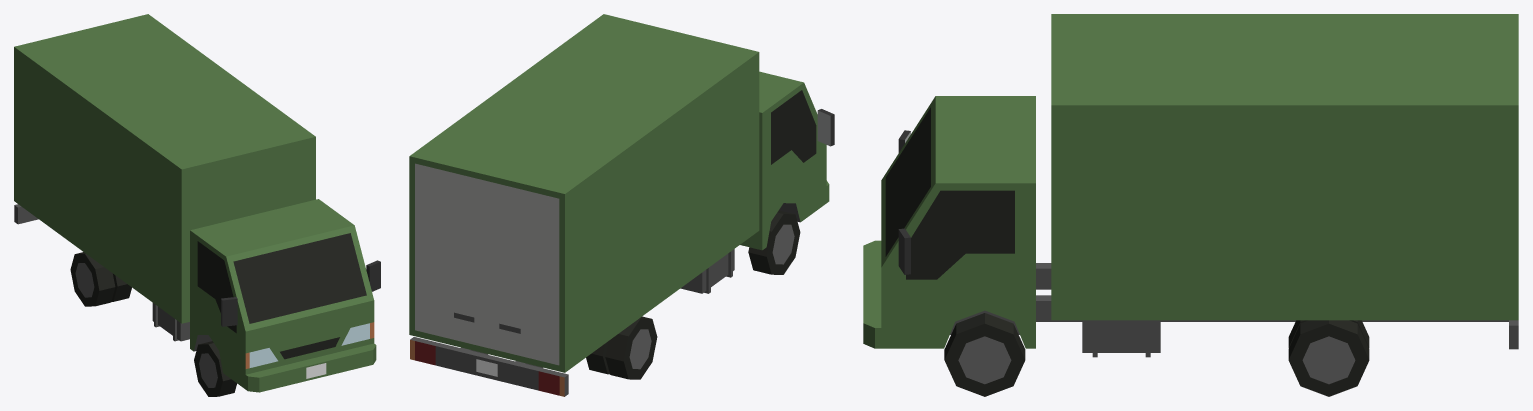
Rendered from Veh_Truck_02_Green.glb.
The picture shows the model from 3 angles, left to right: view 1: azimuth 30°, elevation 25°; view 2: azimuth 150°, elevation 25°; view 3: azimuth 270°, elevation 25°; orthographic projection. The views are drawn at different scales.
Visible parts, largest first — view 1: Truck_02_Green, Wheel_RR, Wheel_FR; view 2: Truck_02_Green, Wheel_RR, Wheel_FR; view 3: Truck_02_Green, Wheel_RL, Wheel_FL.
Part boxes in pixels (x1,y1,x2,y2): Truck_02_Green: [14, 14, 380, 392]; Wheel_RR: [70, 252, 131, 306]; Wheel_FR: [194, 341, 236, 396]; Truck_02_Green: [409, 14, 834, 396]; Wheel_RR: [586, 316, 657, 379]; Wheel_FR: [748, 210, 800, 274]; Truck_02_Green: [863, 14, 1518, 357]; Wheel_RL: [1288, 320, 1369, 396]; Wheel_FL: [944, 313, 1025, 396].
Size of the model in its own units: 1.27 by 1.61 by 3.26.
1 material, 1 textured.
